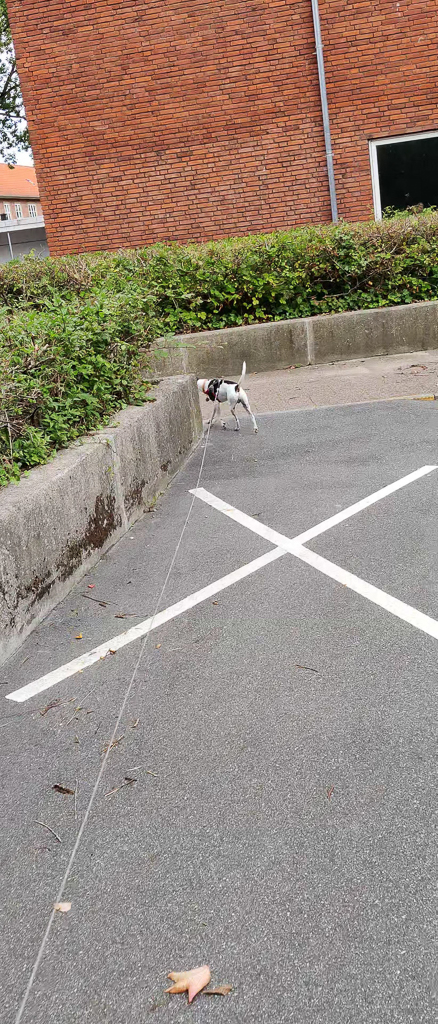Dog: (191, 354, 266, 440)
